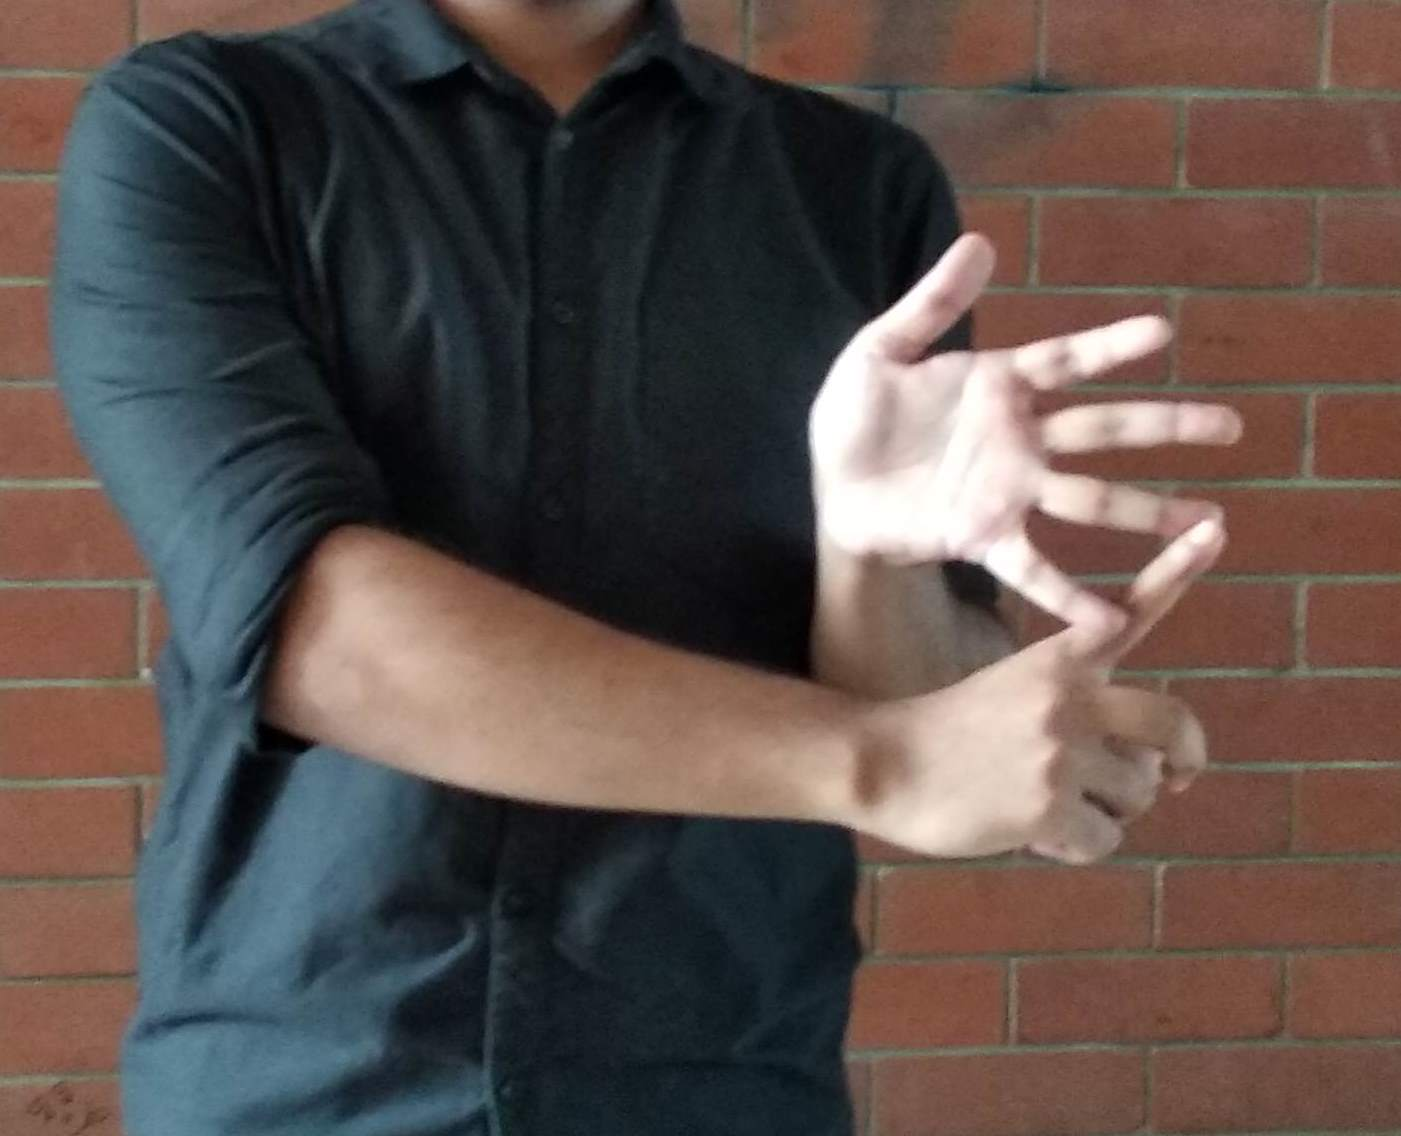e: (849, 230, 1223, 890)
